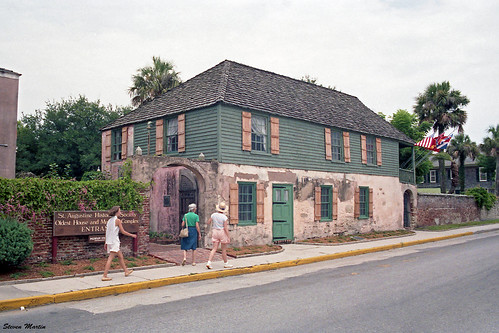low: (96, 57, 418, 249)
